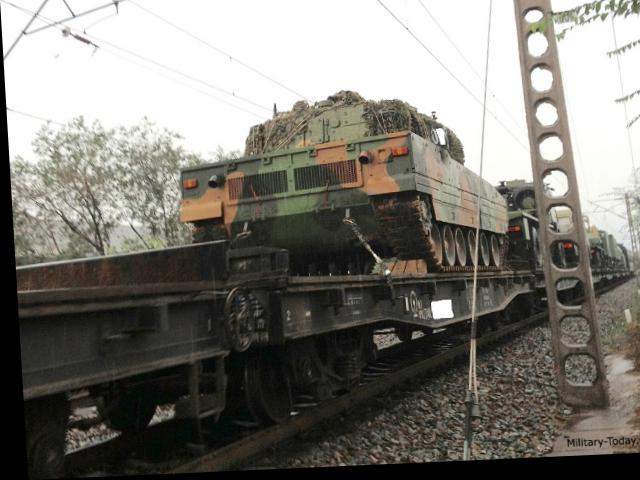tank: (180, 92, 502, 281)
